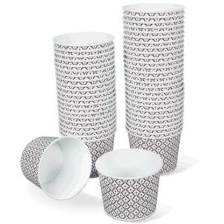paper_cup: (118, 0, 190, 177), (47, 29, 120, 181), (91, 145, 167, 224), (14, 130, 95, 204)
